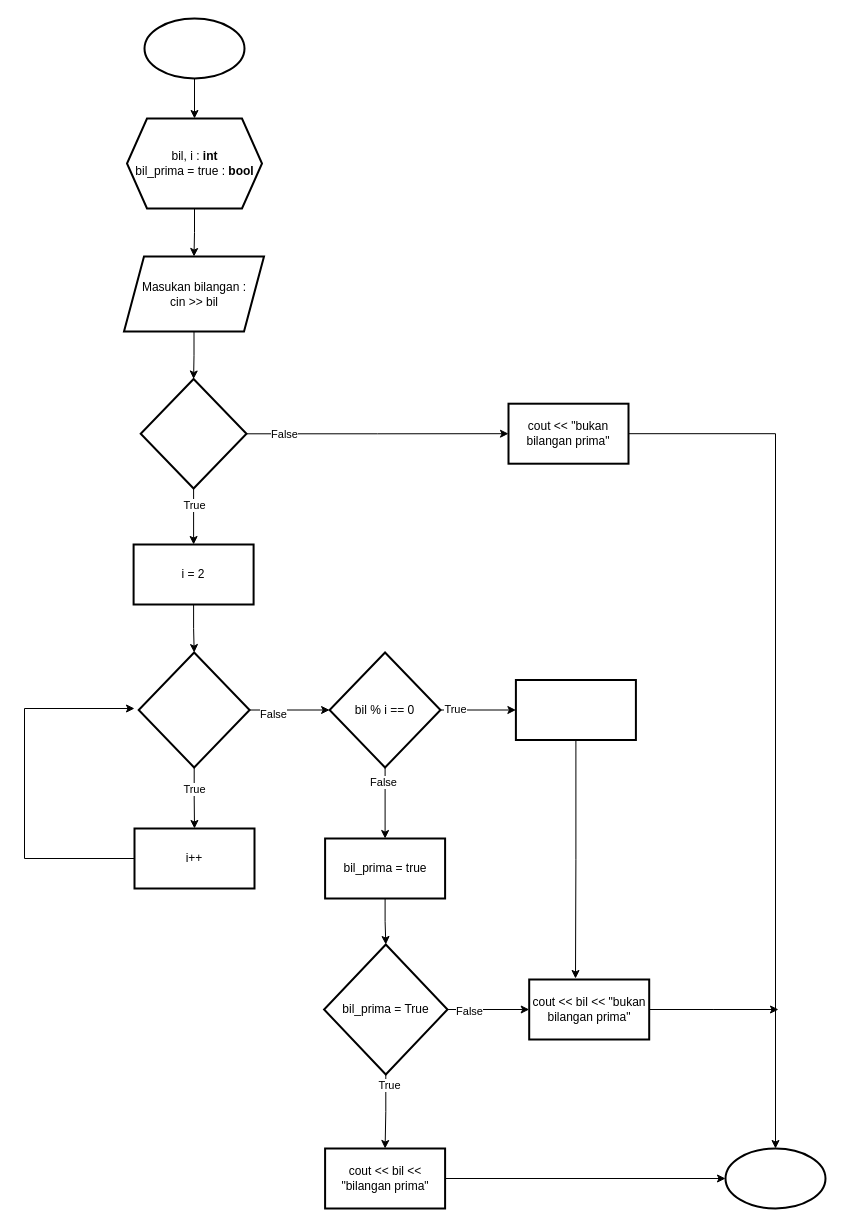
The diagram is 844 pixels wide and 1226 high, and some of its shapes have lost their labels. The box of each missing label's shape, as (x1, y1, x2, y2) in pixels:
bil <= 1: (139, 378, 247, 489)
bil_prima = false: (514, 678, 636, 740)
End: (724, 1147, 826, 1209)
i * i <= bil: (137, 651, 250, 768)
Start: (143, 17, 245, 79)
